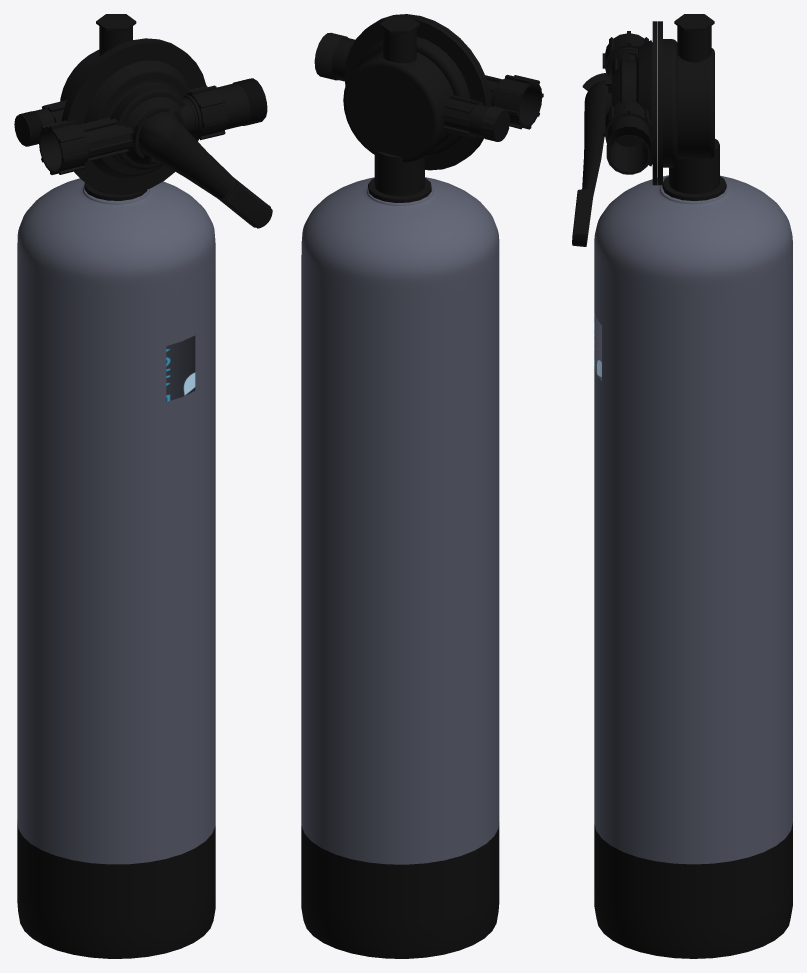
Rendered from Water_filter Unit_ANIL.glb.
The picture shows the model from 3 angles, left to right: view 1: azimuth 30°, elevation 25°; view 2: azimuth 150°, elevation 25°; view 3: azimuth 270°, elevation 25°; orthographic projection.
Visible parts, largest first — view 1: Filter; view 2: Filter; view 3: Filter.
Boxes of the visible parts, bbox=[...] form: Filter: bbox=[14, 14, 272, 958]; Filter: bbox=[301, 14, 543, 958]; Filter: bbox=[572, 14, 792, 958].
Bounding box in the file's own units: 0.3109 × 1.3 × 0.2896.
3 materials, 1 textured.
